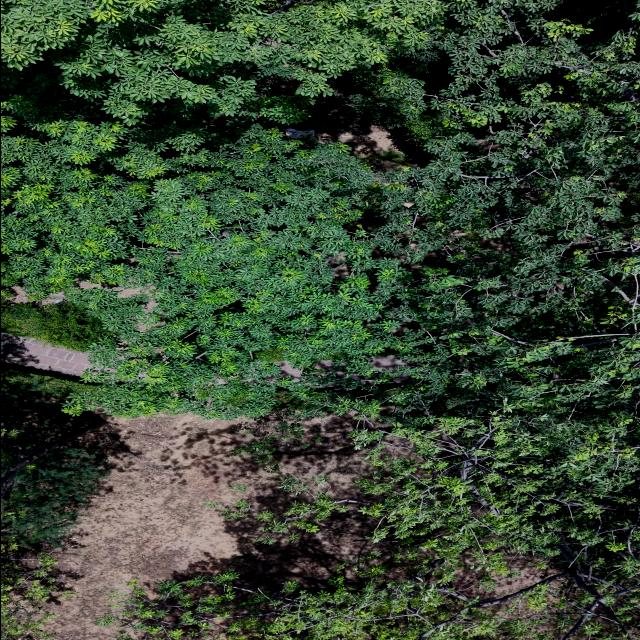DRY_AREA: (48, 414, 394, 639), (48, 414, 385, 639), (49, 414, 385, 639), (50, 414, 374, 639), (48, 414, 371, 639), (49, 414, 370, 639), (50, 415, 371, 639), (282, 104, 424, 171), (314, 105, 432, 172), (315, 105, 421, 171), (315, 107, 415, 171), (315, 108, 415, 171), (452, 552, 559, 599), (315, 106, 400, 158), (1, 333, 91, 377), (1, 333, 91, 376), (1, 333, 90, 376), (112, 286, 149, 297), (9, 285, 32, 302)
VEGETATION_TREE: (1, 0, 639, 639), (3, 0, 638, 416), (68, 125, 637, 418), (97, 407, 639, 639), (4, 0, 448, 124), (97, 555, 638, 639), (1, 369, 107, 639), (1, 369, 107, 545), (1, 418, 105, 543), (4, 442, 106, 544), (1, 540, 74, 639), (1, 302, 106, 350), (231, 418, 324, 471), (1, 368, 85, 398)
